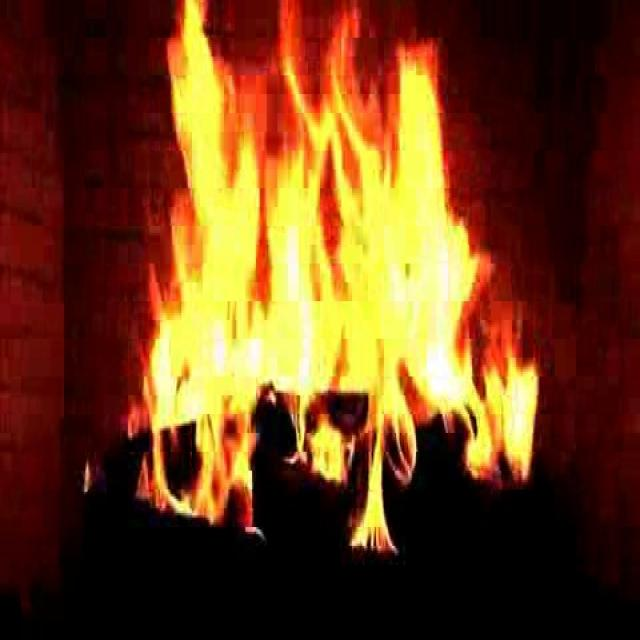fire: (130, 8, 531, 509)
